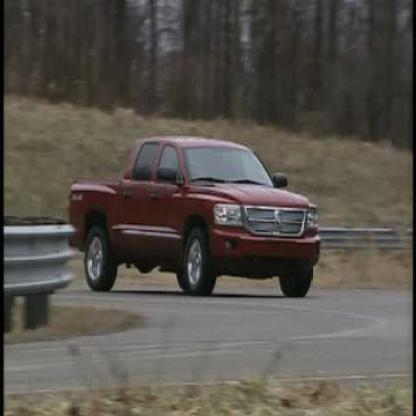Vehicle: (68, 136, 324, 303)
